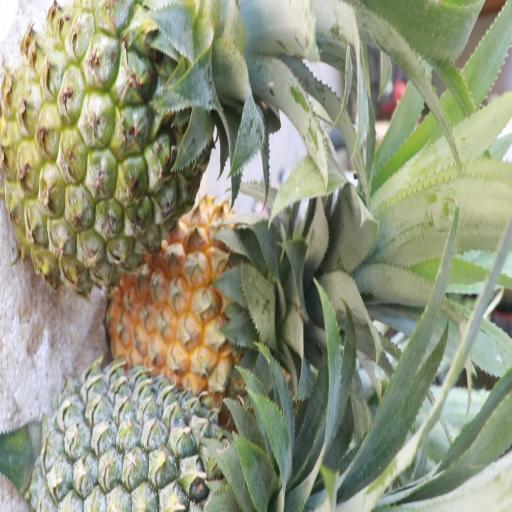------------------------------: (2, 4, 201, 278)
Pineapple - v8 v1: (115, 192, 300, 395)
